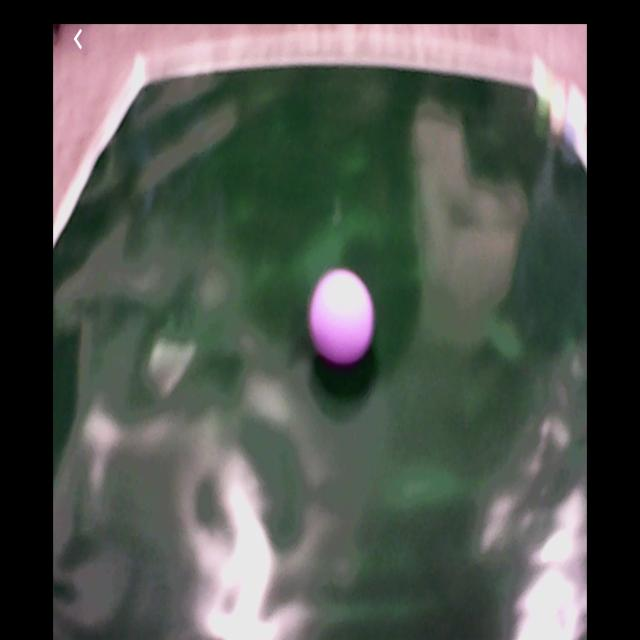ball: (311, 268, 376, 366)
